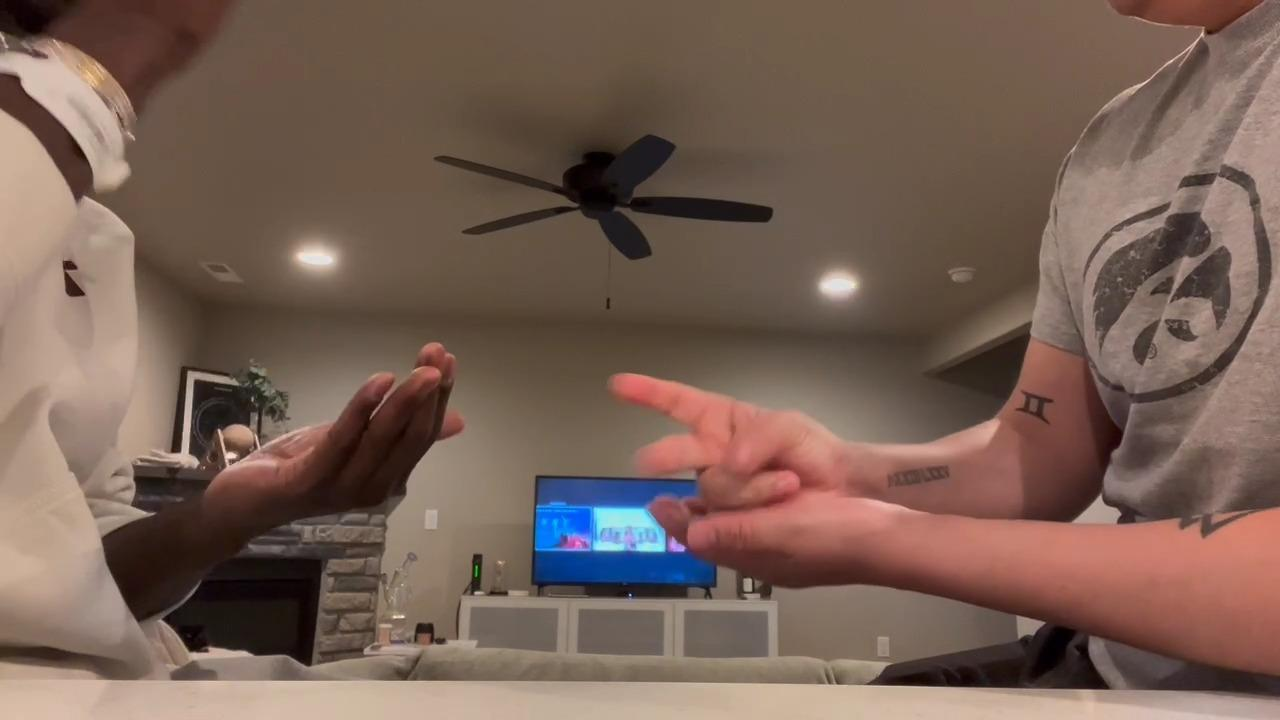Scissors: (613, 375, 852, 512)
